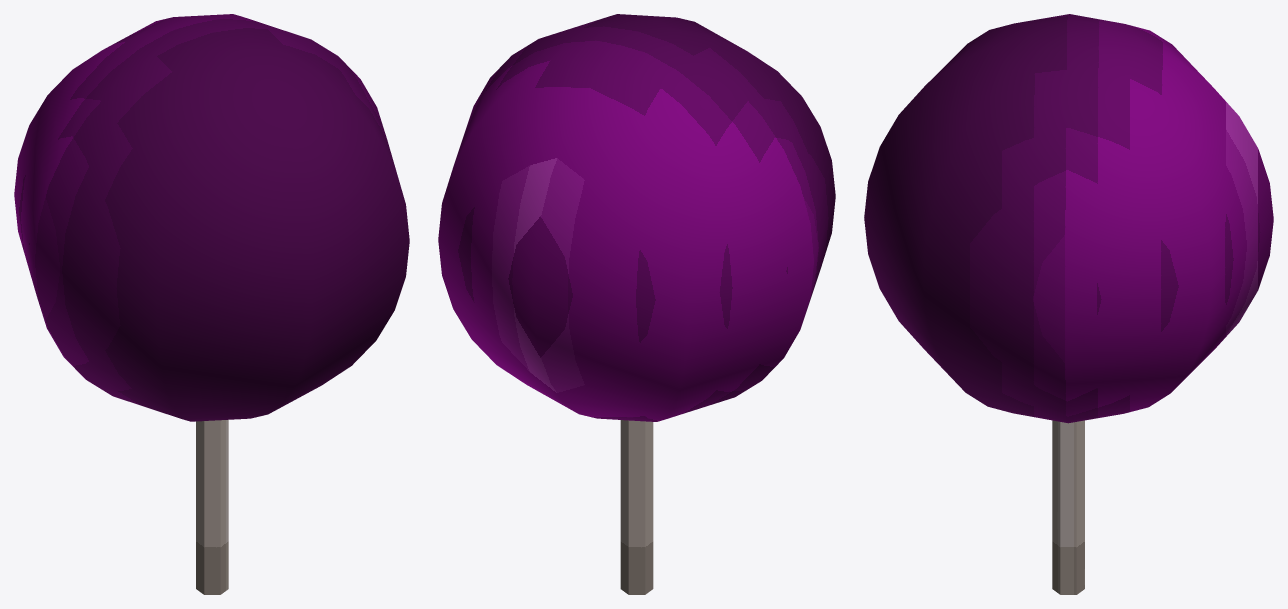
Rendered from 08_planetx05.gltf.
3 views of the same model, side by side, from view 1: azimuth 30°, elevation 25°; view 2: azimuth 150°, elevation 25°; view 3: azimuth 270°, elevation 25° (orthographic).
Parts seen in each view (by area): view 1: 08_planetx05; view 2: 08_planetx05; view 3: 08_planetx05.
Part boxes in pixels (<box>): 08_planetx05: <box>14,14,409,594</box>; 08_planetx05: <box>438,14,835,594</box>; 08_planetx05: <box>864,14,1273,594</box>.
Bounding box in the file's own units: 2 × 2.99 × 2.
2 materials, 2 textured.
